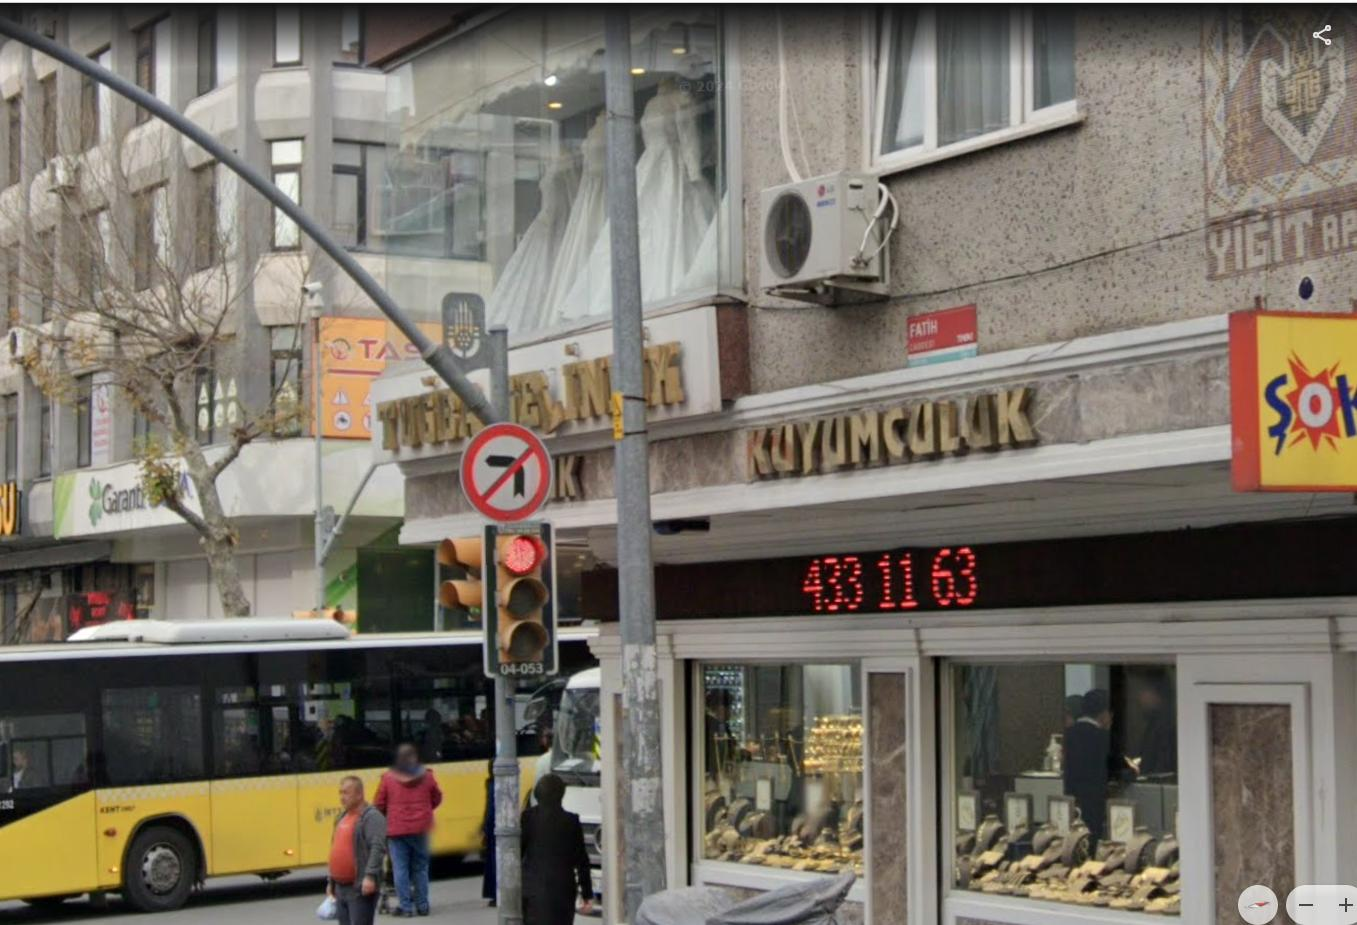leftturnsareforbidden: (462, 420, 552, 519)
redlight: (484, 525, 553, 661)
